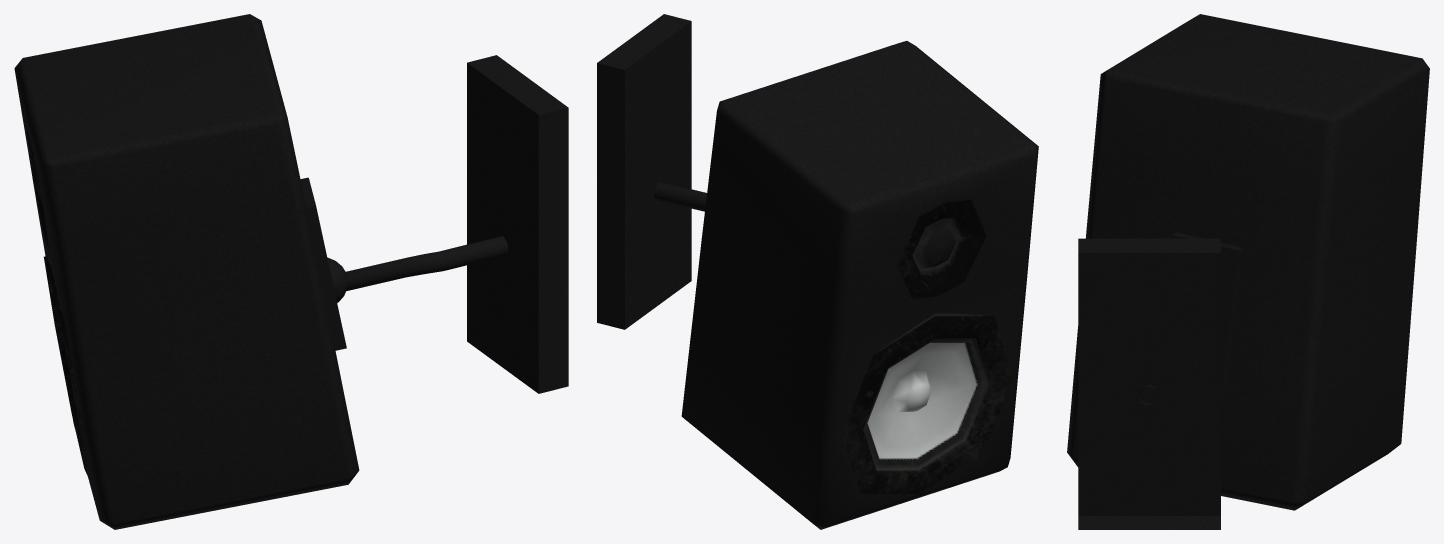
File: kaiutin.fbx
The picture shows the model from 3 angles, left to right: view 1: azimuth 30°, elevation 25°; view 2: azimuth 150°, elevation 25°; view 3: azimuth 270°, elevation 25°; orthographic projection. The views are drawn at different scales.
Parts seen in each view (by area): view 1: kaiutin; view 2: kaiutin; view 3: kaiutin.
Part boxes in pixels (box(x1,y1,x2,y2)): kaiutin: box(14, 14, 568, 529); kaiutin: box(597, 14, 1038, 529); kaiutin: box(1067, 14, 1429, 529).
Size of the model in its own units: 50.57 by 42.8 by 34.49.
